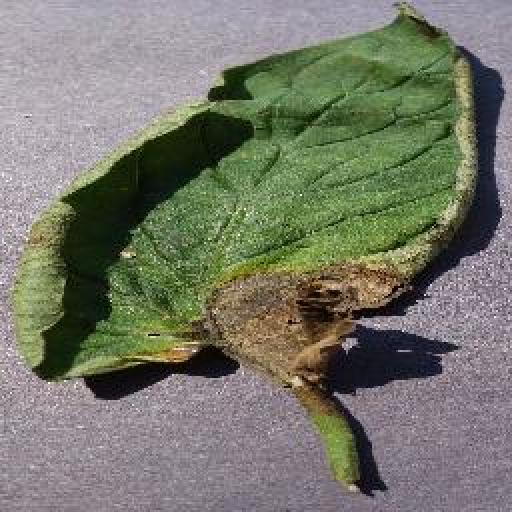Late Blight: (12, 3, 480, 384)
